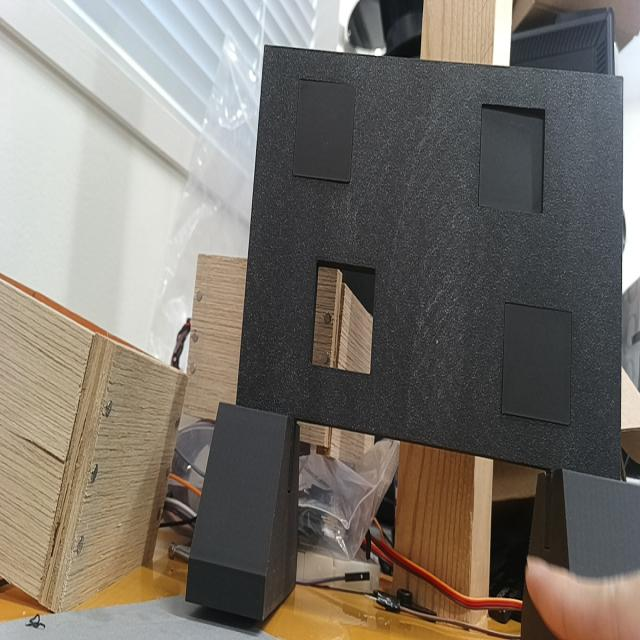Obstacle: (313, 261, 375, 373)
Wall: (237, 46, 622, 478)
